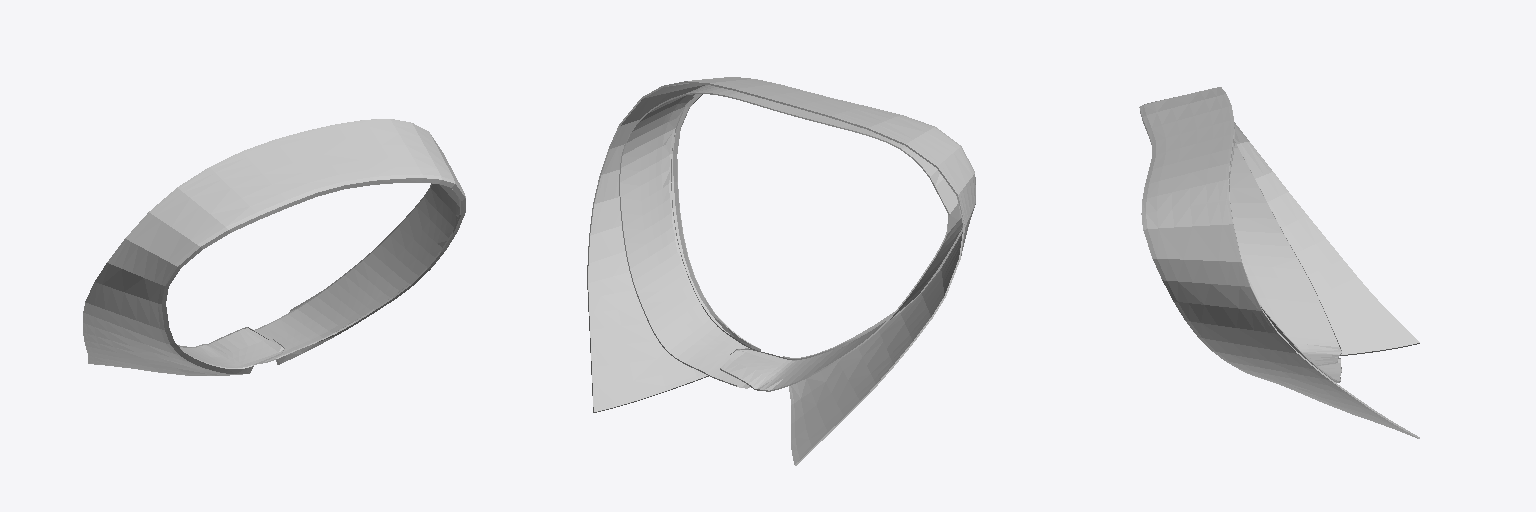
Rendered from short_BD.obj.
The picture shows the model from 3 angles: view 1: azimuth 30°, elevation 25°; view 2: azimuth 150°, elevation 25°; view 3: azimuth 270°, elevation 25°; orthographic projection.
Parts seen in each view (by area): view 1: 10_short_BD, inner_collar_out; view 2: 10_short_BD, inner_collar_out; view 3: 10_short_BD, inner_collar_out.
Part boxes in pixels (x1,y1,x2,y2): 10_short_BD: (83,119,465,375); inner_collar_out: (178,183,459,367); 10_short_BD: (587,77,975,465); inner_collar_out: (619,85,962,391); 10_short_BD: (1139,87,1419,438); inner_collar_out: (1229,127,1341,382).
Size of the model in its own units: 18.02 by 13.16 by 12.4.